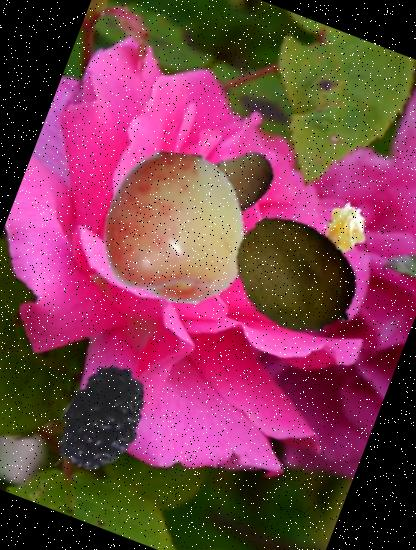Cherry: (78, 131, 272, 325)
Mulberry: (30, 350, 191, 510)
Papaya: (211, 191, 380, 359)
Peach: (156, 121, 294, 259)
Physalis: (310, 194, 384, 268)
